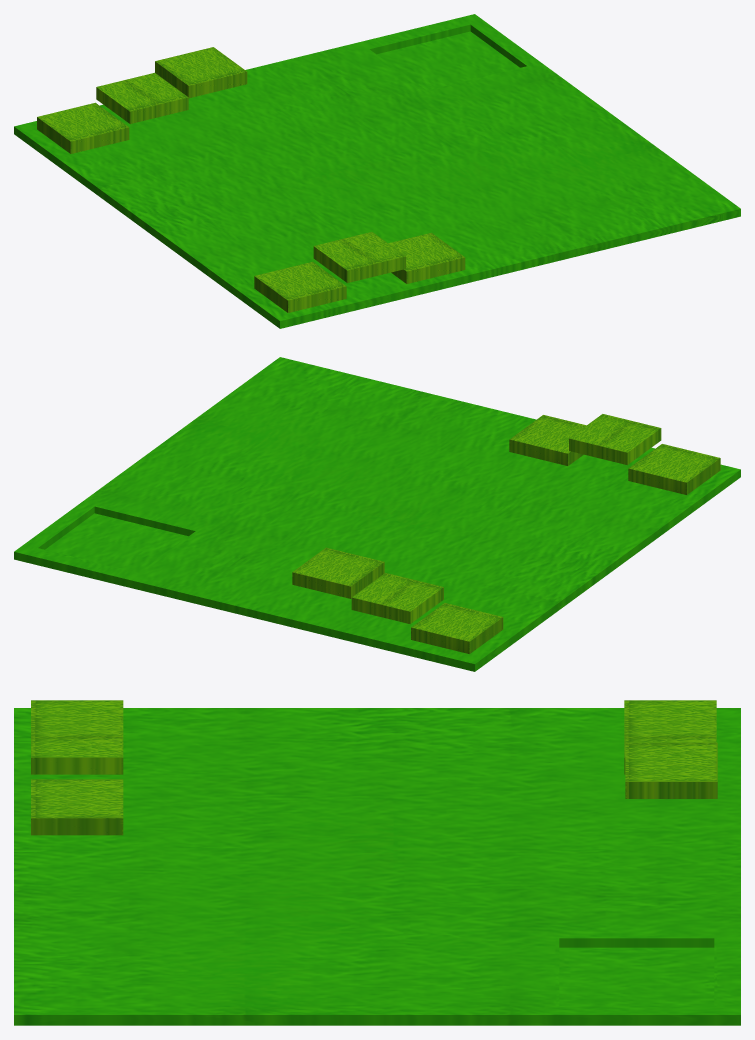
Rendered from DifferentParts.obj.
The picture shows the model from 3 angles, top to bottom: view 1: azimuth 30°, elevation 25°; view 2: azimuth 150°, elevation 25°; view 3: azimuth 270°, elevation 25°; orthographic projection. The views are drawn at different scales.
Parts seen in each view (by area): view 1: ground.043_Cube.055, Cube.006_Cube.025, Cube.005_Cube.024, Cube.010_Cube.030, Cube.003_Cube.029, Cube.004_Cube.023, Cube.012_Cube.031; view 2: ground.043_Cube.055, Cube.003_Cube.029, Cube.005_Cube.024, Cube.010_Cube.030, Cube.006_Cube.025, Cube.004_Cube.023, Cube.012_Cube.031; view 3: ground.043_Cube.055, Cube.004_Cube.023, Cube.012_Cube.031, Cube.010_Cube.030, Cube.005_Cube.024, Cube.003_Cube.029, Cube.006_Cube.025.
Part boxes in pixels (box(x1,y1,x2,y2)): ground.043_Cube.055: box(14, 14, 740, 328); Cube.006_Cube.025: box(37, 102, 129, 153); Cube.005_Cube.024: box(96, 72, 188, 123); Cube.010_Cube.030: box(313, 232, 405, 282); Cube.003_Cube.029: box(254, 261, 346, 312); Cube.004_Cube.023: box(155, 47, 247, 98); Cube.012_Cube.031: box(388, 232, 465, 283); ground.043_Cube.055: box(14, 357, 740, 671); Cube.003_Cube.029: box(628, 444, 720, 494); Cube.005_Cube.024: box(351, 573, 443, 623); Cube.010_Cube.030: box(569, 414, 661, 465); Cube.006_Cube.025: box(411, 603, 503, 653); Cube.004_Cube.023: box(292, 547, 384, 598); Cube.012_Cube.031: box(509, 415, 586, 465); ground.043_Cube.055: box(14, 708, 740, 1025); Cube.004_Cube.023: box(625, 742, 717, 798); Cube.012_Cube.031: box(31, 779, 123, 835); Cube.010_Cube.030: box(31, 718, 123, 774); Cube.005_Cube.024: box(624, 718, 716, 774); Cube.003_Cube.029: box(31, 700, 123, 718); Cube.006_Cube.025: box(624, 700, 716, 718).
Size of the model in its own units: 26.21 by 2.55 by 26.21.
